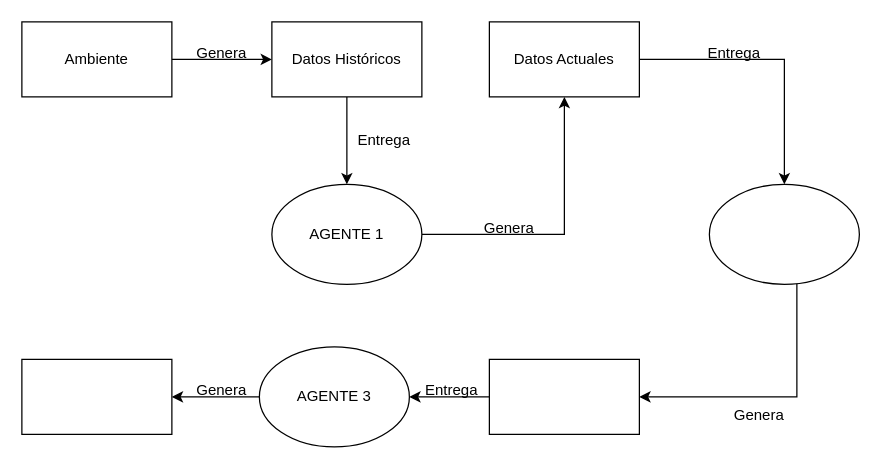
This 881x469 diagram has some shape labels left out. The shapes that lost their labels are listed below. From the top down, each one's box as (x1, y1, x2, y2) in pixels, then its label:
(708, 183, 859, 284): AGENTE 2
(21, 358, 172, 434): Compra/Venta Criptomoneda
(488, 358, 639, 434): Predicción punto de inflexión
